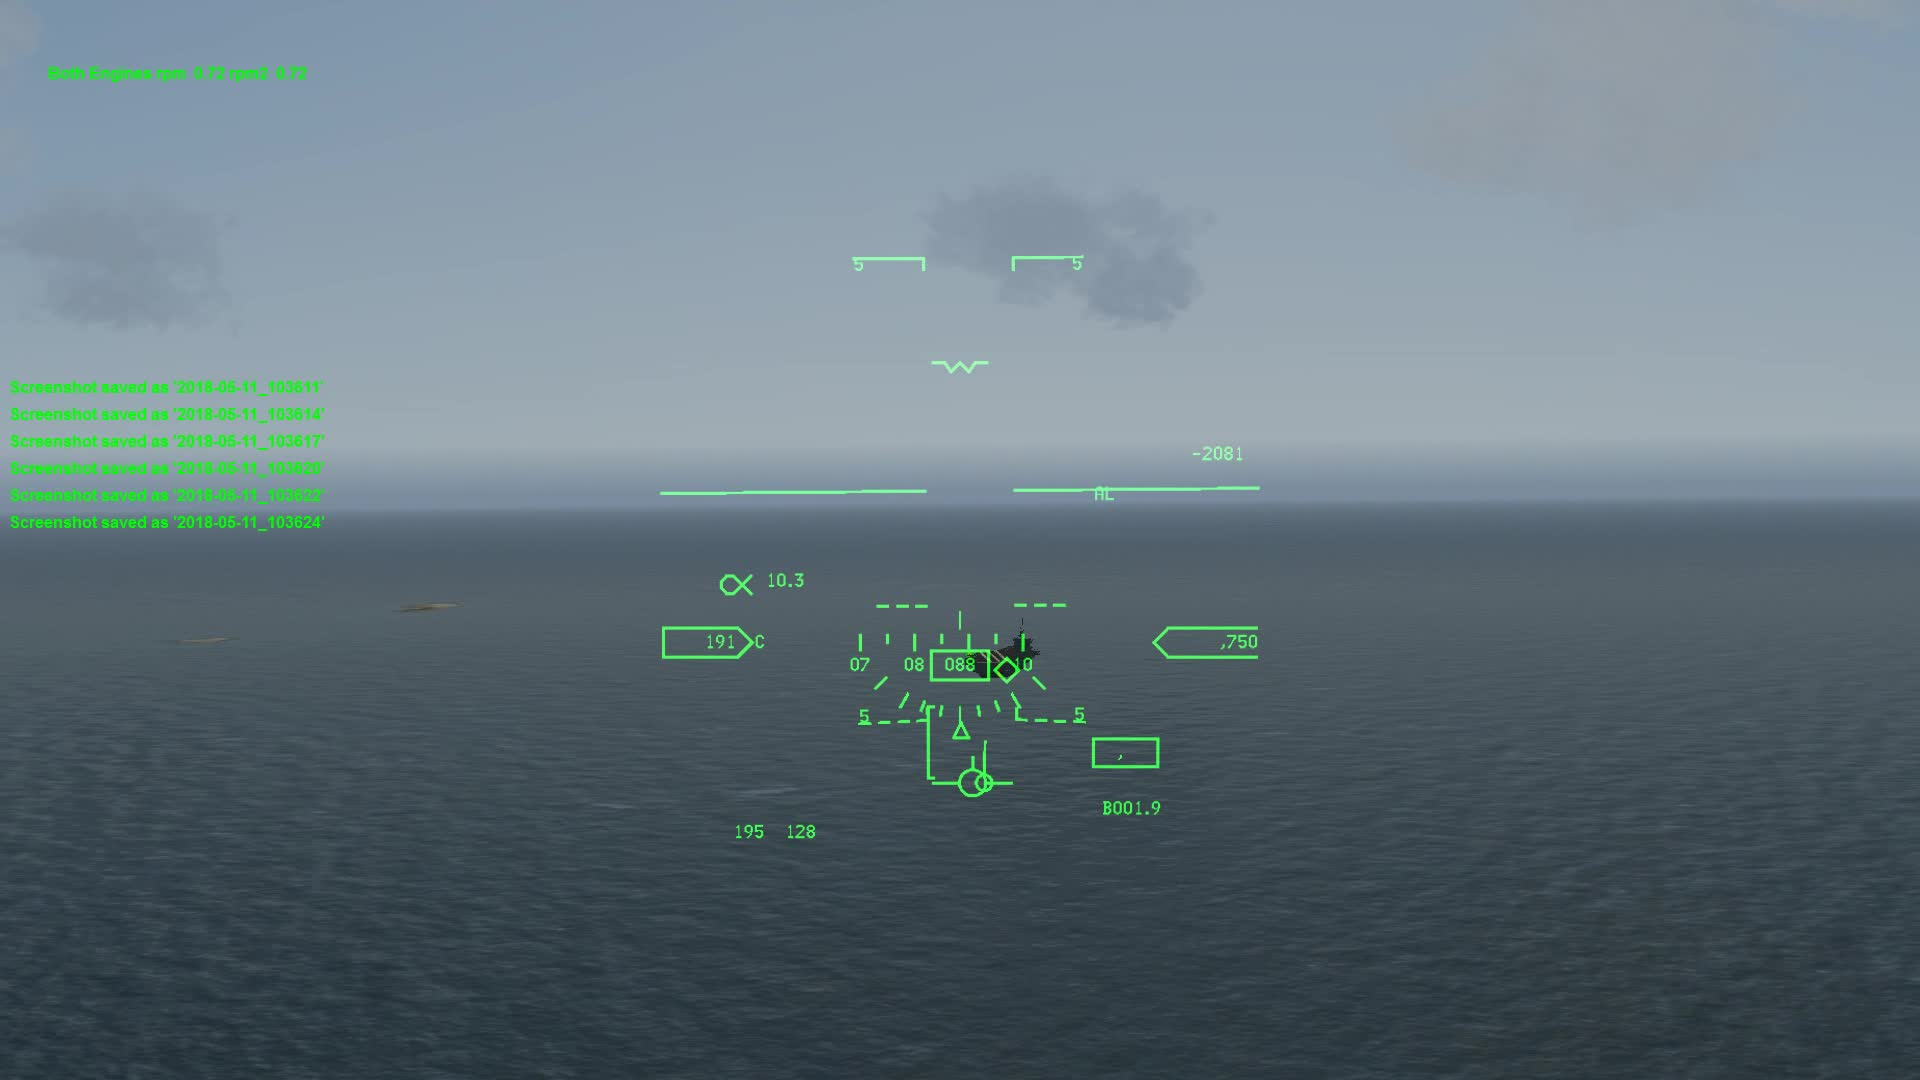speed vector: (938, 758, 1017, 798)
